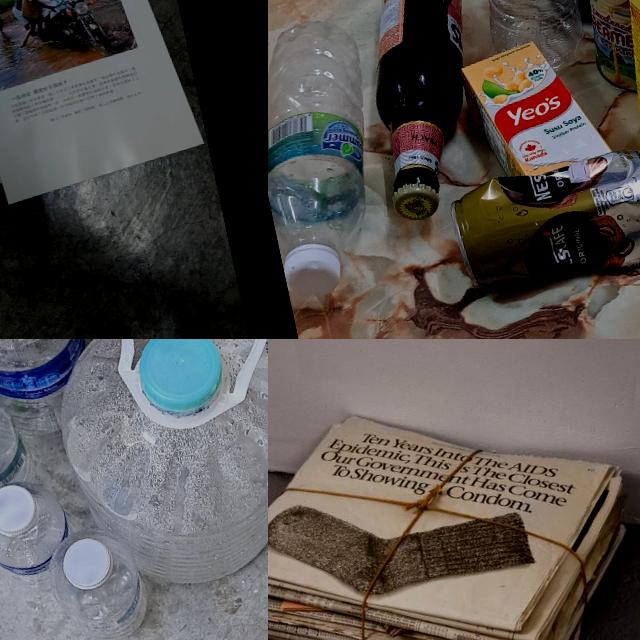caixinha: (456, 29, 612, 186)
garrafa de vidro: (344, 0, 504, 225)
garrafa plástica: (37, 339, 268, 606), (268, 13, 398, 269), (43, 523, 154, 640), (449, 0, 605, 83), (0, 339, 105, 442), (0, 475, 79, 586), (0, 381, 36, 509)
lata: (442, 137, 640, 305), (567, 0, 640, 101)
papel: (268, 360, 640, 640), (0, 0, 209, 230)
tampa plástica: (133, 339, 231, 417), (278, 238, 346, 302), (56, 536, 116, 596), (0, 478, 39, 542)
